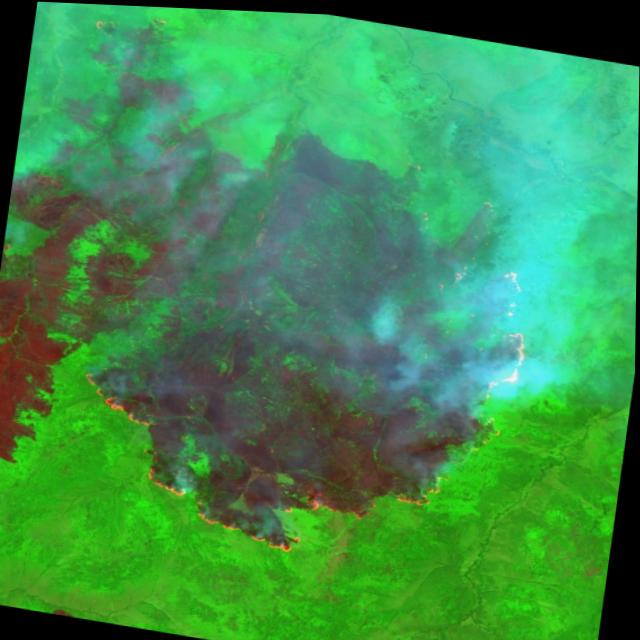fire: (46, 195, 553, 586)
